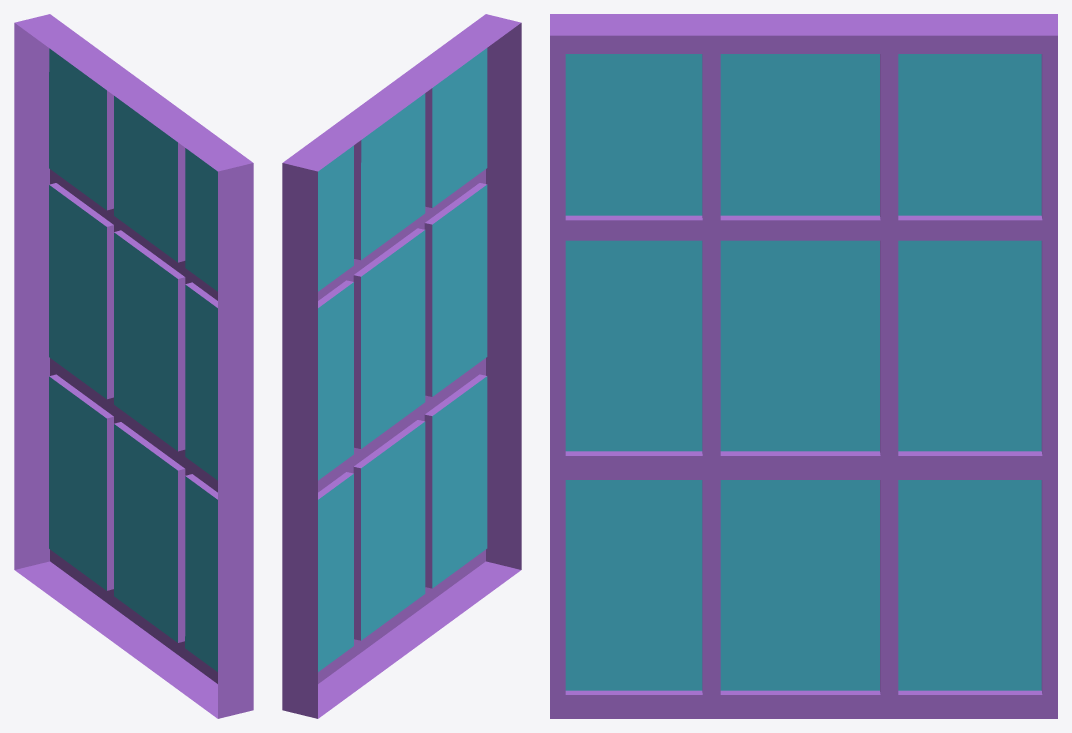
The model's file is ventana_tipo_cuadro.fbx.
3 renders of one model, left to right at view 1: azimuth 30°, elevation 25°; view 2: azimuth 150°, elevation 25°; view 3: azimuth 270°, elevation 25°, orthographic. The views are drawn at different scales.
Visible parts, largest first — view 1: ventanaCuadrada; view 2: ventanaCuadrada; view 3: ventanaCuadrada.
Boxes of the visible parts, x1=… form: ventanaCuadrada: x1=14, y1=14, x2=253, y2=718; ventanaCuadrada: x1=282, y1=14, x2=521, y2=718; ventanaCuadrada: x1=550, y1=14, x2=1057, y2=718.
Size of the model in its own units: 41.64 by 612 by 412.
